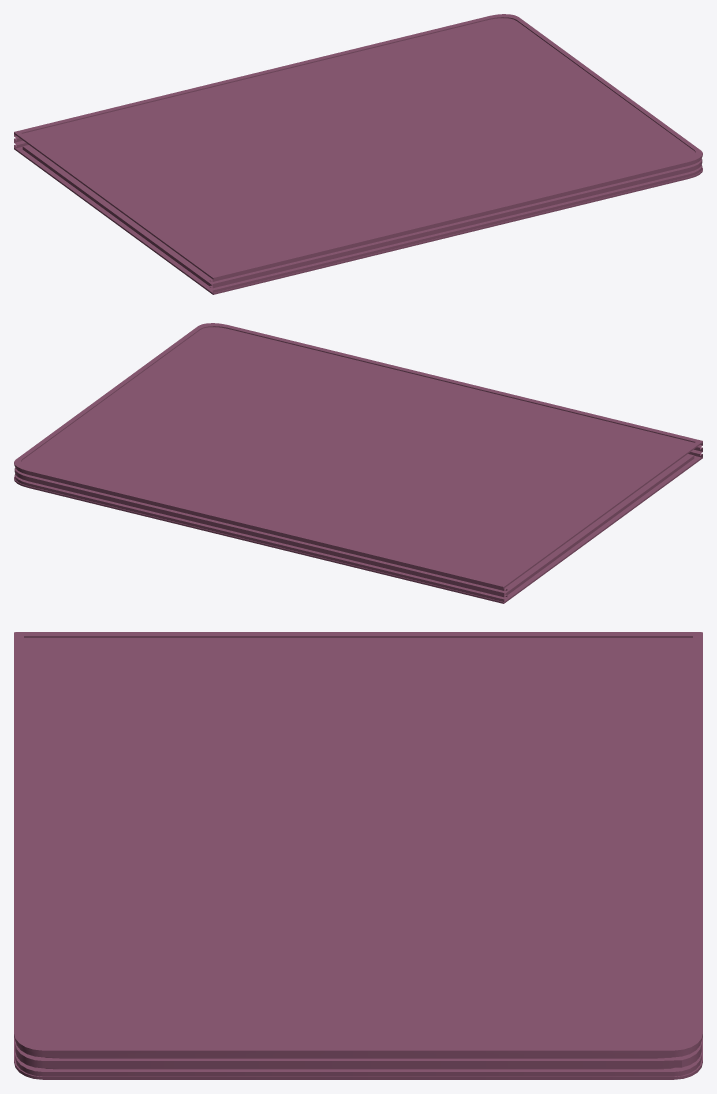
The model's file is GS_Ext_Canopy.fbx.
The picture shows the model from 3 angles, top to bottom: view 1: azimuth 30°, elevation 25°; view 2: azimuth 150°, elevation 25°; view 3: azimuth 270°, elevation 25°; orthographic projection. The views are drawn at different scales.
Parts seen in each view (by area): view 1: GS_Ext_Canopy; view 2: GS_Ext_Canopy; view 3: GS_Ext_Canopy.
Boxes of the visible parts, left/top/right/bottom form: GS_Ext_Canopy: left=14, top=14, right=702, bottom=294; GS_Ext_Canopy: left=14, top=323, right=702, bottom=603; GS_Ext_Canopy: left=14, top=632, right=702, bottom=1079.
Bounding box in the file's own units: 1227 × 40 × 853.
